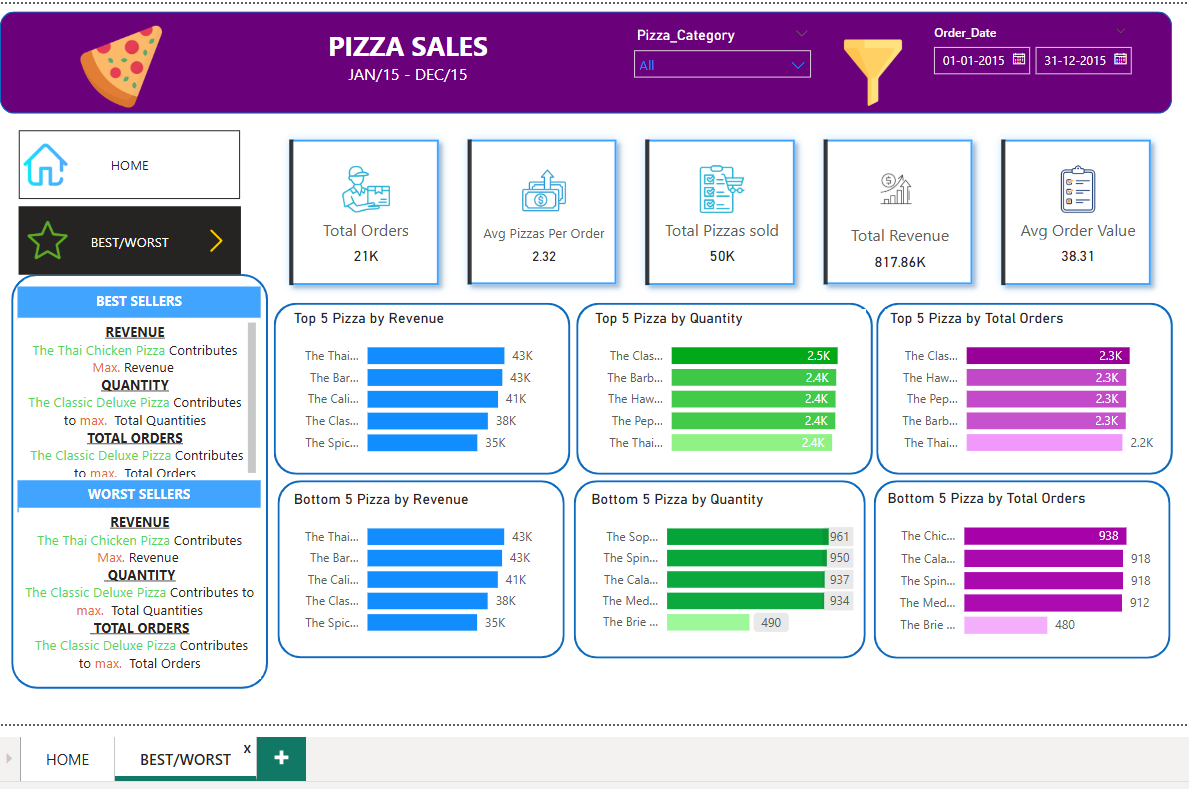

Layout of this report page (visuals, bound fields, positions):
{"tool":"powerbi","page":{"name":"BEST/WORST ","canvas":[1280,720],"ordinal":1},"visuals":[{"type":"shape","box":[0,8.1,1172.2,102.1],"z":0},{"type":"image","box":[71,15.6,99.2,95.3],"z":1000},{"type":"textbox","box":[163.4,18.5,488.3,68.1],"z":2000},{"type":"slicer","fields":{"Values":["pizza_sales.pizza_category"]},"box":[624.2,17,197,83.3],"z":3000},{"type":"slicer","fields":{"Values":["pizza_sales.order_date"]},"box":[921.1,15.6,216.9,86.6],"z":4000},{"type":"shape","box":[277.6,476.4,287.5,178.2],"z":5000},{"type":"shape","box":[574,476.4,291.9,178.2],"z":6000},{"type":"shape","box":[874,476.4,296.4,178.2],"z":7000},{"type":"shape","box":[11,270,257,415],"z":8000},{"type":"pageNavigator","box":[19,126,222,69],"z":9000},{"type":"pageNavigator","box":[19,202,222,68],"z":10000},{"type":"image","box":[200,216,33,40],"z":11000},{"type":"image","box":[19,128,54,67],"z":12000},{"type":"image","box":[835.5,27.8,76.1,82.4],"z":13000},{"type":"image","box":[21,211,52,50],"z":14000},{"type":"textbox","box":[18,282,243,32],"z":15000},{"type":"textbox","box":[18,314,243,164],"z":16000},{"type":"textbox","box":[18,476,243,32],"z":17000},{"type":"textbox","box":[19,504,242,171],"z":18000},{"type":"shape","box":[875.8,298.2,296.4,171.9],"z":19000},{"type":"shape","box":[273.1,298.2,296.4,171.9],"z":20000},{"type":"shape","box":[575.8,298.2,296.4,171.9],"z":21000},{"type":"barChart","title":"Top 5 Pizza by Revenue","fields":{"Y":["pizza_sales.Total Revenue"],"Category":["pizza_sales.pizza_name"]},"box":[288.4,304.5,266,156.7],"z":22000},{"type":"barChart","title":"Top 5 Pizza by Quantity","fields":{"Category":["pizza_sales.pizza_name"],"Y":["Sum(pizza_sales.quantity)"]},"box":[589.4,304.4,276.2,156.6],"z":23000},{"type":"barChart","title":"Top 5 Pizza by Total Orders","fields":{"Y":["pizza_sales.Total Orders"],"Category":["pizza_sales.pizza_name"]},"box":[885.1,305.4,274.3,156.6],"z":24000},{"type":"barChart","title":"Bottom 5 Pizza by Revenue","fields":{"Category":["pizza_sales.pizza_name"],"Y":["pizza_sales.Total Revenue"]},"box":[288.4,486.3,266,154.9],"z":25000},{"type":"barChart","title":"Bottom 5 Pizza by Quantity","fields":{"Y":["Sum(pizza_sales.quantity)"],"Category":["pizza_sales.pizza_name"]},"box":[586.5,486.3,272.3,154.7],"z":26000},{"type":"barChart","title":"Bottom 5 Pizza by Total Orders","fields":{"Y":["pizza_sales.Total Orders"],"Category":["pizza_sales.pizza_name"]},"box":[882.2,485.3,274.3,159.5],"z":27000},{"type":"cardVisual","fields":{"Data":["pizza_sales.Total Orders","pizza_sales.Avg Pizzas Per Order","pizza_sales.Total Pizzas sold","pizza_sales.Total Revenue","pizza_sales.Avg Order Value"]},"box":[273,119,897,179],"z":28000}]}

Visuals, with their boxes on the page's 1280x720 design canvas (x1, y1, x2, y2). These are canvas units, not pixel positions in the 1189x789 screenshot, which may show the page scaled, cropped or inside an application window:
shape: crop(0, 8, 1172, 110)
image: crop(71, 16, 170, 111)
textbox: crop(163, 18, 652, 87)
slicer - pizza_sales.pizza_category: crop(624, 17, 821, 100)
slicer - pizza_sales.order_date: crop(921, 16, 1138, 102)
shape: crop(278, 476, 565, 655)
shape: crop(574, 476, 866, 655)
shape: crop(874, 476, 1170, 655)
shape: crop(11, 270, 268, 685)
pageNavigator: crop(19, 126, 241, 195)
pageNavigator: crop(19, 202, 241, 270)
image: crop(200, 216, 233, 256)
image: crop(19, 128, 73, 195)
image: crop(836, 28, 912, 110)
image: crop(21, 211, 73, 261)
textbox: crop(18, 282, 261, 314)
textbox: crop(18, 314, 261, 478)
textbox: crop(18, 476, 261, 508)
textbox: crop(19, 504, 261, 675)
shape: crop(876, 298, 1172, 470)
shape: crop(273, 298, 570, 470)
shape: crop(576, 298, 872, 470)
"Top 5 Pizza by Revenue" barChart: crop(288, 304, 554, 461)
"Top 5 Pizza by Quantity" barChart: crop(589, 304, 866, 461)
"Top 5 Pizza by Total Orders" barChart: crop(885, 305, 1159, 462)
"Bottom 5 Pizza by Revenue" barChart: crop(288, 486, 554, 641)
"Bottom 5 Pizza by Quantity" barChart: crop(586, 486, 859, 641)
"Bottom 5 Pizza by Total Orders" barChart: crop(882, 485, 1156, 645)
cardVisual - pizza_sales.Total Orders x pizza_sales.Avg Pizzas Per Order: crop(273, 119, 1170, 298)
